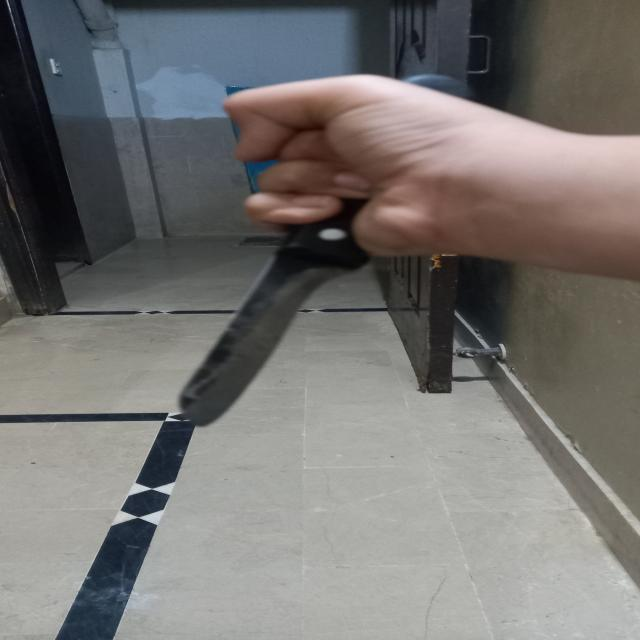Knife: (158, 71, 480, 429)
